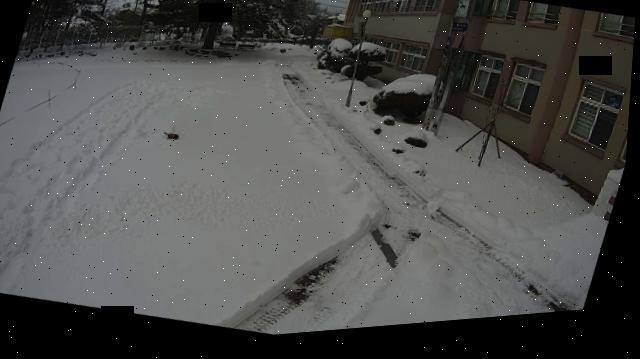fire: (171, 137, 177, 140)
smoke: (172, 127, 180, 138)
